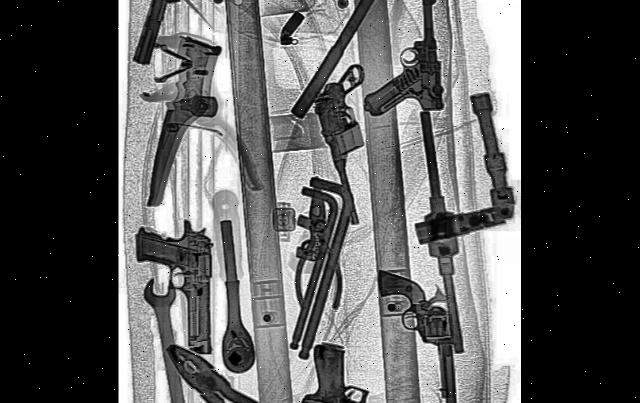Gun: (311, 54, 400, 234), (377, 255, 463, 403), (137, 216, 215, 356), (360, 0, 446, 120), (133, 0, 224, 98), (302, 337, 399, 403)
Pliers: (161, 320, 319, 403), (296, 176, 342, 310)
Wrench: (142, 264, 205, 403)
